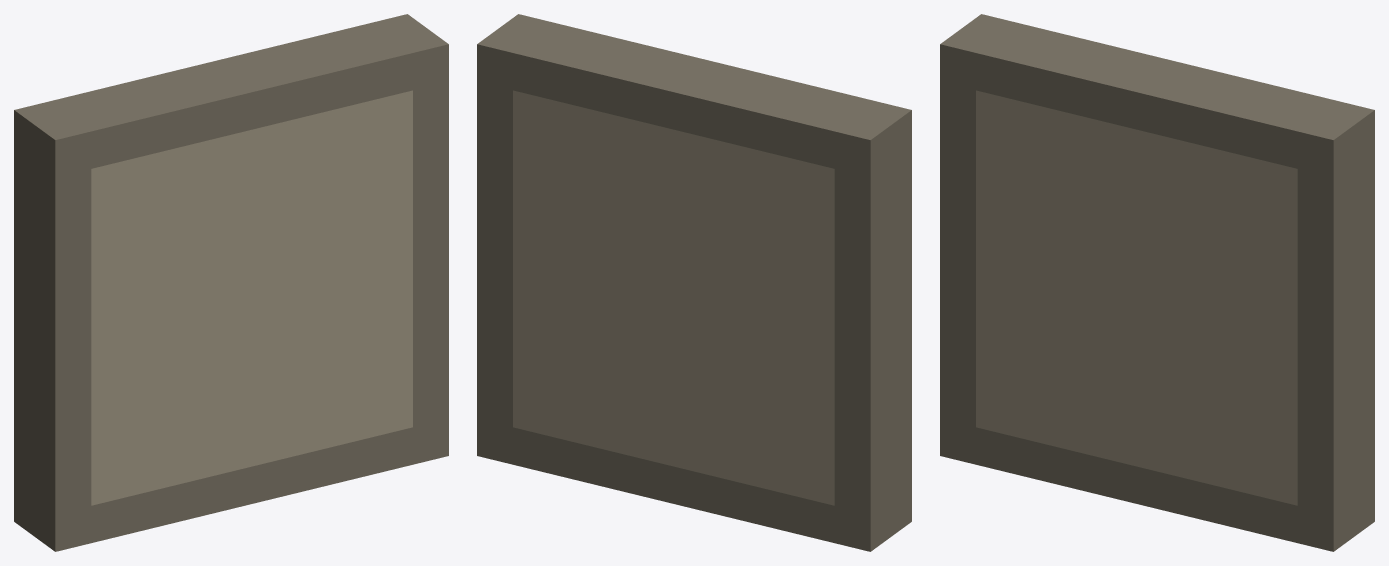
File: mural_biblico_catedral_01.glb
3 views of the same model, side by side, from view 1: azimuth 30°, elevation 25°; view 2: azimuth 150°, elevation 25°; view 3: azimuth 330°, elevation 25° (orthographic).
Visible parts, largest first — view 1: mural_biblico_catedral; view 2: mural_biblico_catedral; view 3: mural_biblico_catedral.
Part boxes in pixels (x1,y1,x2,y2): mural_biblico_catedral: (14, 14, 448, 551); mural_biblico_catedral: (477, 14, 911, 551); mural_biblico_catedral: (940, 14, 1374, 551).
Size of the model in its own units: 1 by 1 by 0.1818.
